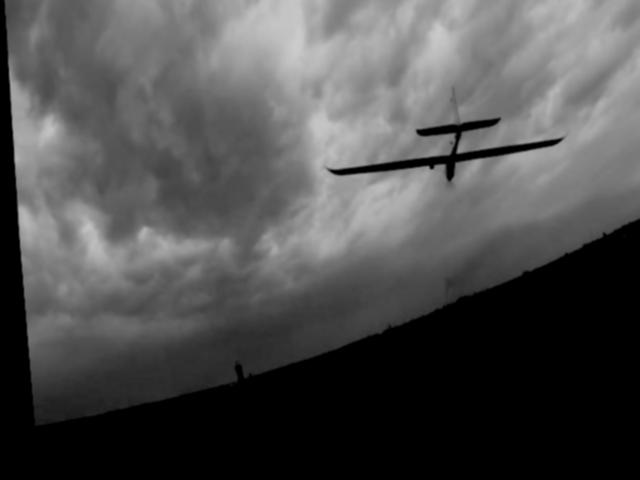hedef: (333, 99, 564, 202)
